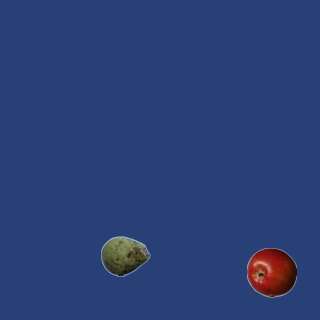Apple Braeburn: (246, 247, 296, 297)
Pear Stone: (100, 231, 150, 281)
